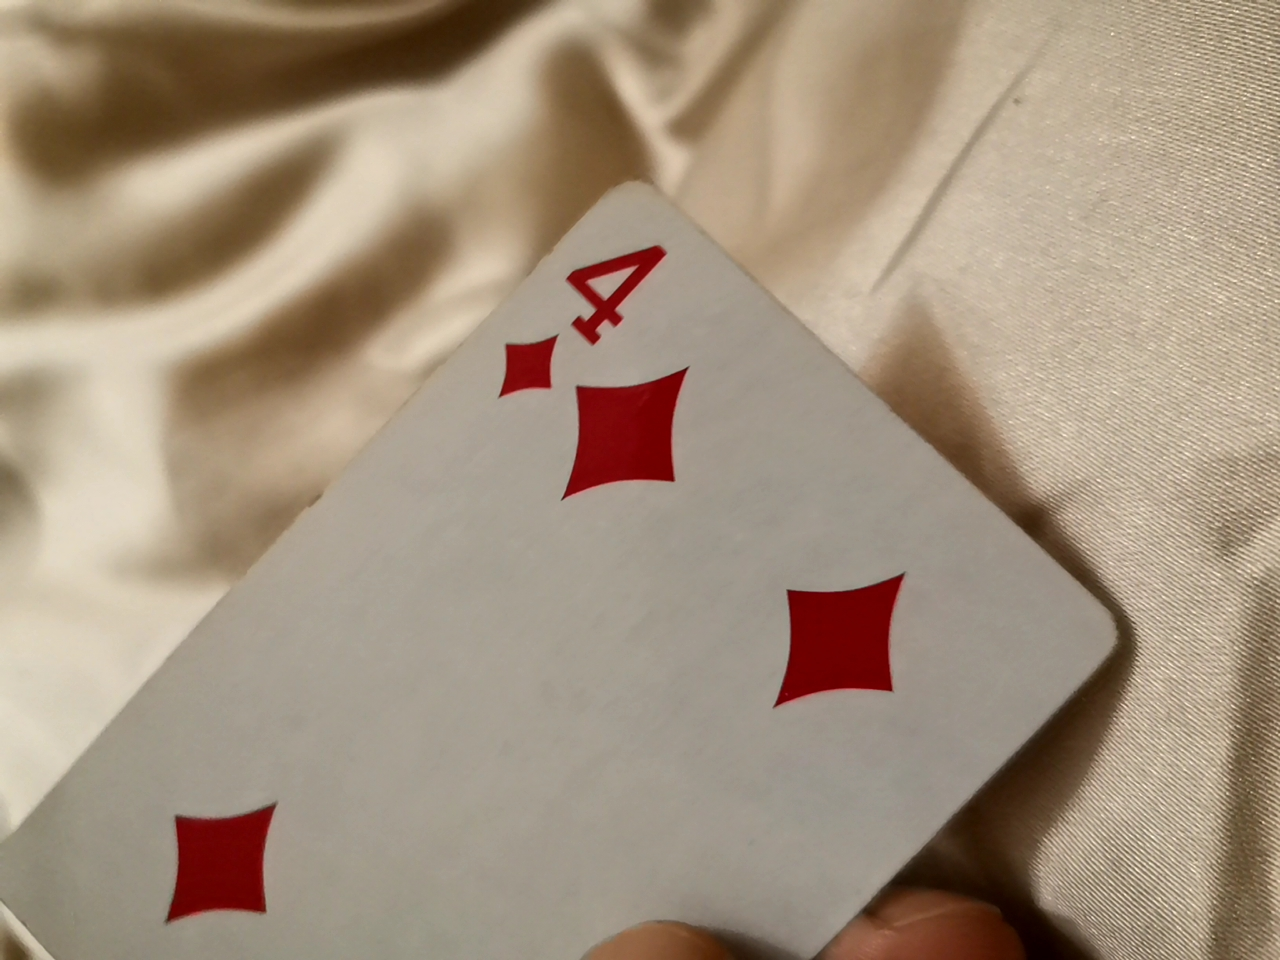fk 4: (9, 125, 1210, 959)
